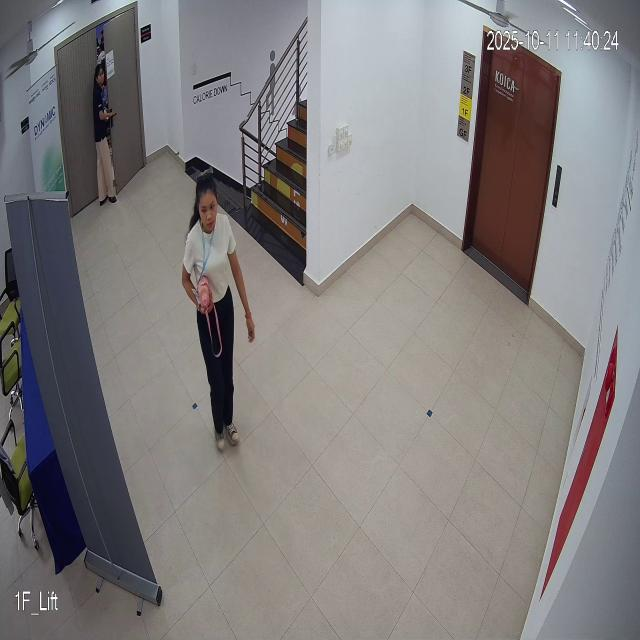face: (190, 165, 224, 246)
